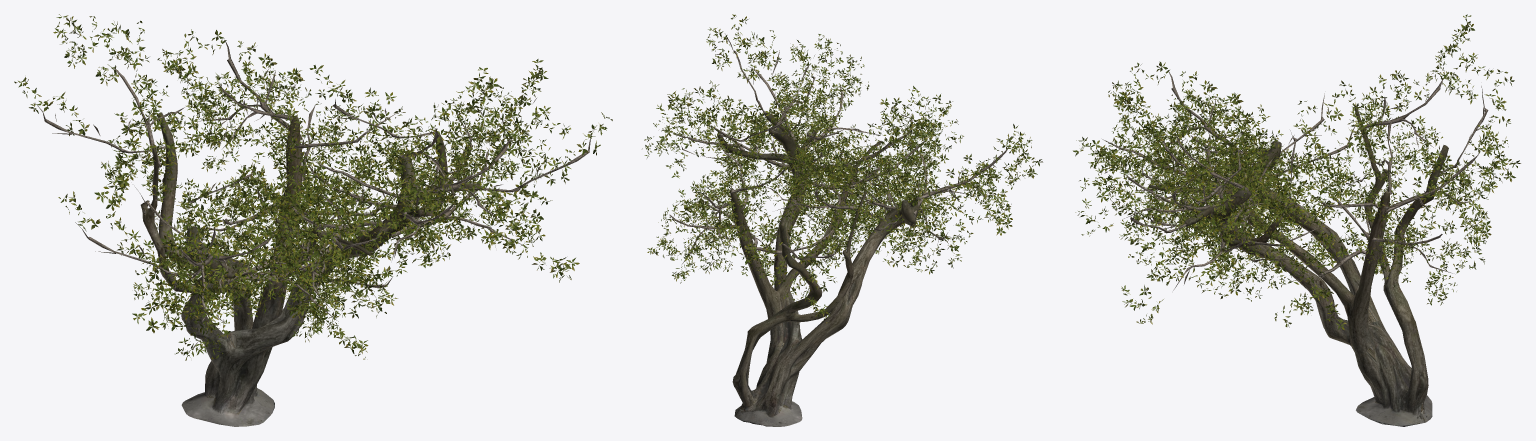
Rendered from urban-tree-compact.glb.
3 renders of one model, left to right at view 1: azimuth 30°, elevation 25°; view 2: azimuth 150°, elevation 25°; view 3: azimuth 270°, elevation 25°, orthographic. The views are drawn at different scales.
Visible parts, largest first — view 1: island_tree_02_LOD0; view 2: island_tree_02_LOD0; view 3: island_tree_02_LOD0.
Boxes of the visible parts, bbox=[...] form: island_tree_02_LOD0: bbox=[14, 14, 612, 426]; island_tree_02_LOD0: bbox=[642, 14, 1042, 426]; island_tree_02_LOD0: bbox=[1073, 14, 1520, 426].
Bounding box in the file's own units: 3.84 × 3.41 × 4.07.
Materials: 3 (3 with a texture image).
